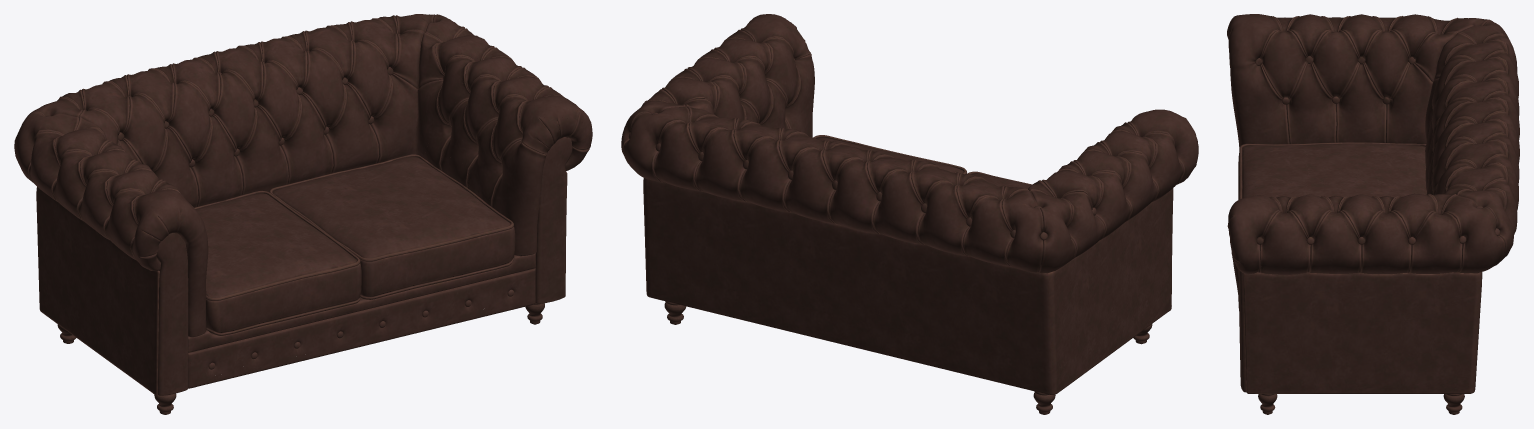
Rendered from sofa-v1.glb.
3 views of the same model, side by side, from view 1: azimuth 30°, elevation 25°; view 2: azimuth 150°, elevation 25°; view 3: azimuth 270°, elevation 25° (orthographic). The views are drawn at different scales.
Parts seen in each view (by area): view 1: sofa_geo, legs_geo4; view 2: sofa_geo, legs_geo4; view 3: sofa_geo, legs_geo4.
Boxes of the visible parts, x1,y1,x2,y2 form: sofa_geo: (14,14,592,395); legs_geo4: (57,303,544,414); sofa_geo: (621,14,1198,394); legs_geo4: (664,301,1152,414); sofa_geo: (1227,14,1519,393); legs_geo4: (1258,394,1464,414).
Bounding box in the file's own units: 2.13 × 1.03 × 1.23.
Materials: 2 (2 with a texture image).
